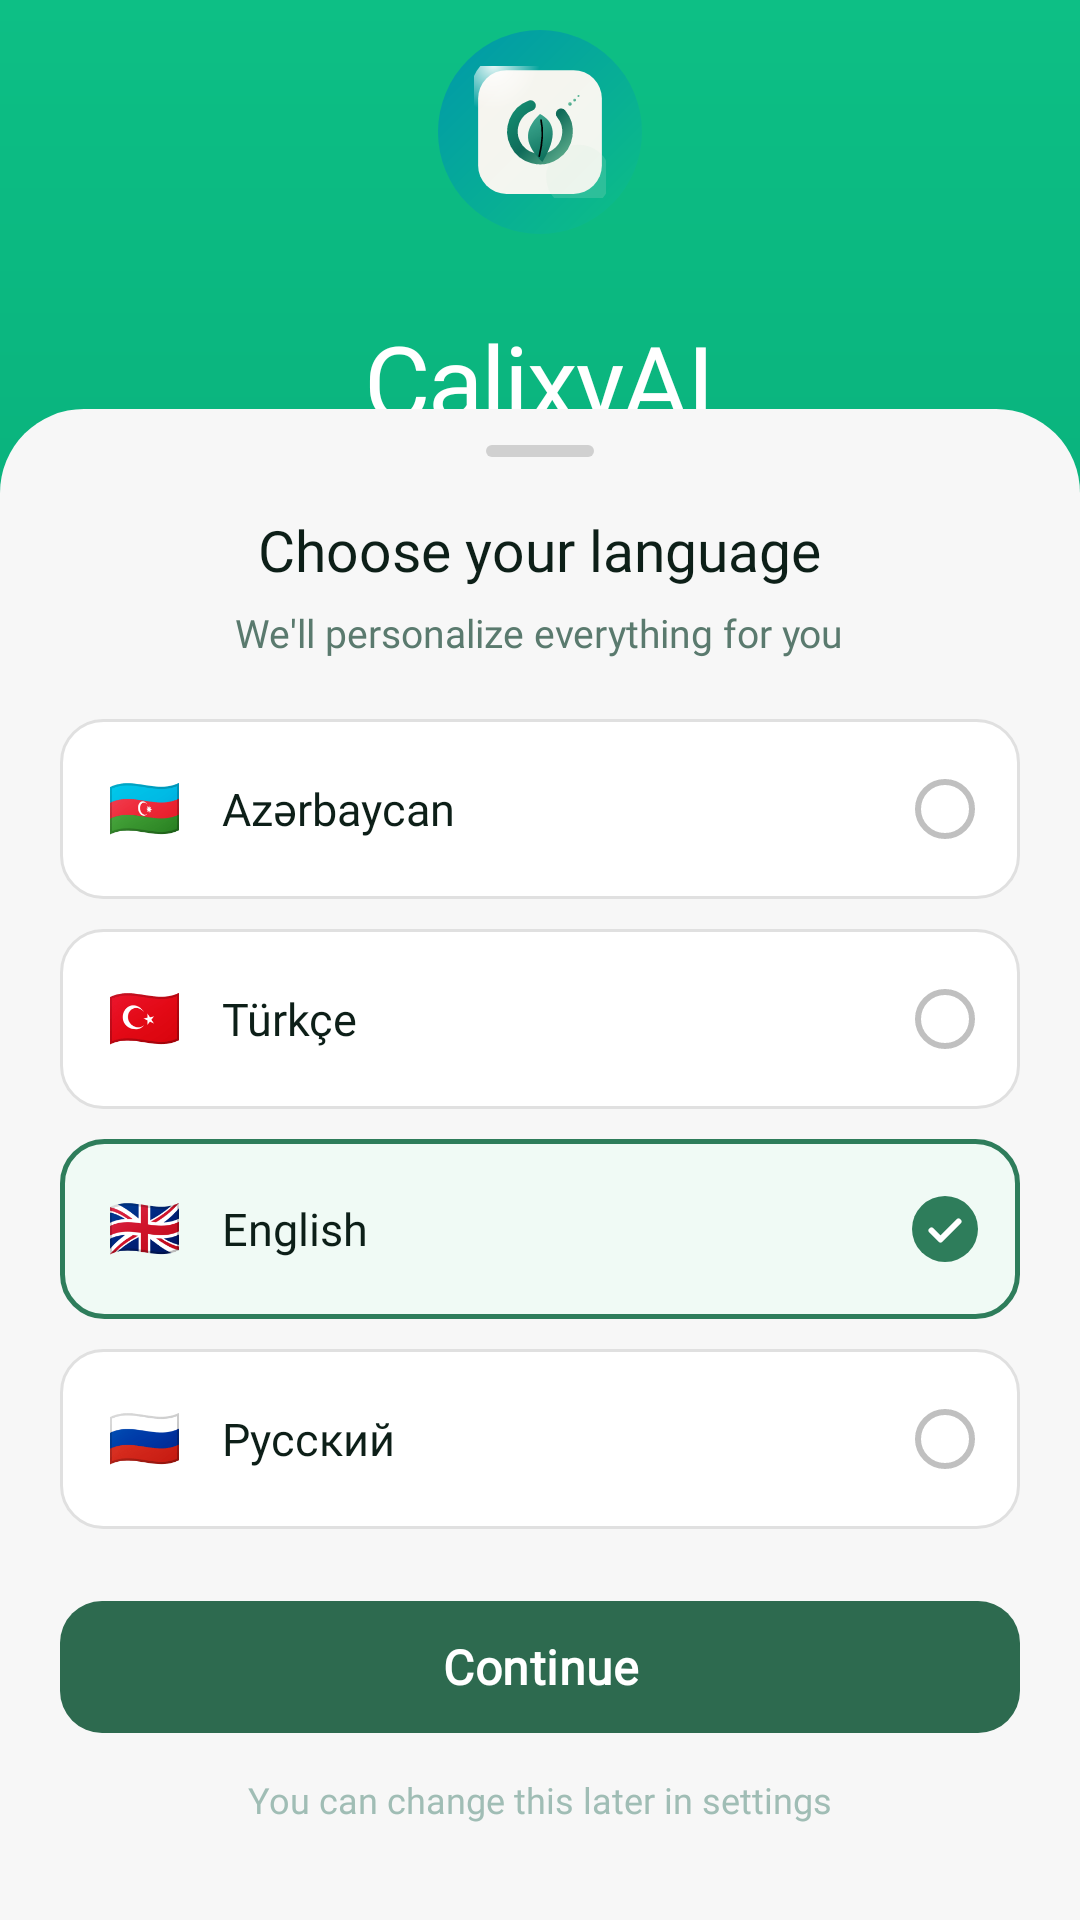

Icons on this 1080 × 1920 Android screen, each with the point to tap as (x=x, y=y):
radio: (x=945, y=809), (x=945, y=1019), (x=945, y=1229), (x=945, y=1439)
